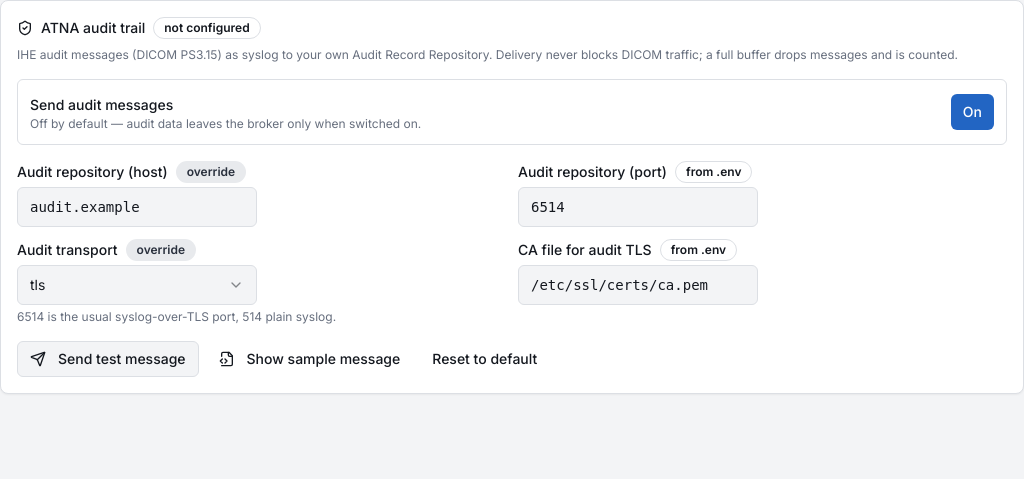
AtnaCard › sends a test message and reports success
The image size is (1024, 479).
Click the button "Send test message" at (108, 359), box [17, 341, 199, 377]
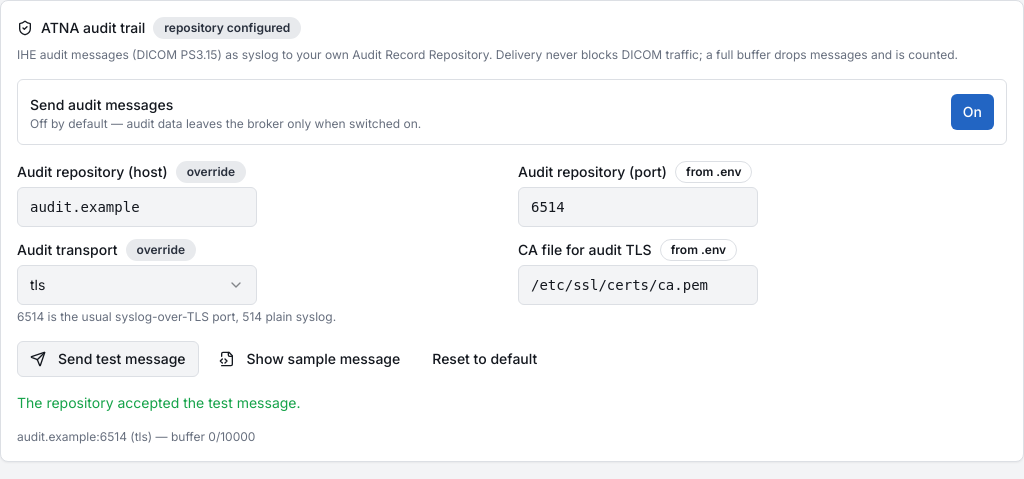
Now the message with test id "atna-test-result" shows "accepted the test message", box [17, 394, 300, 411]
